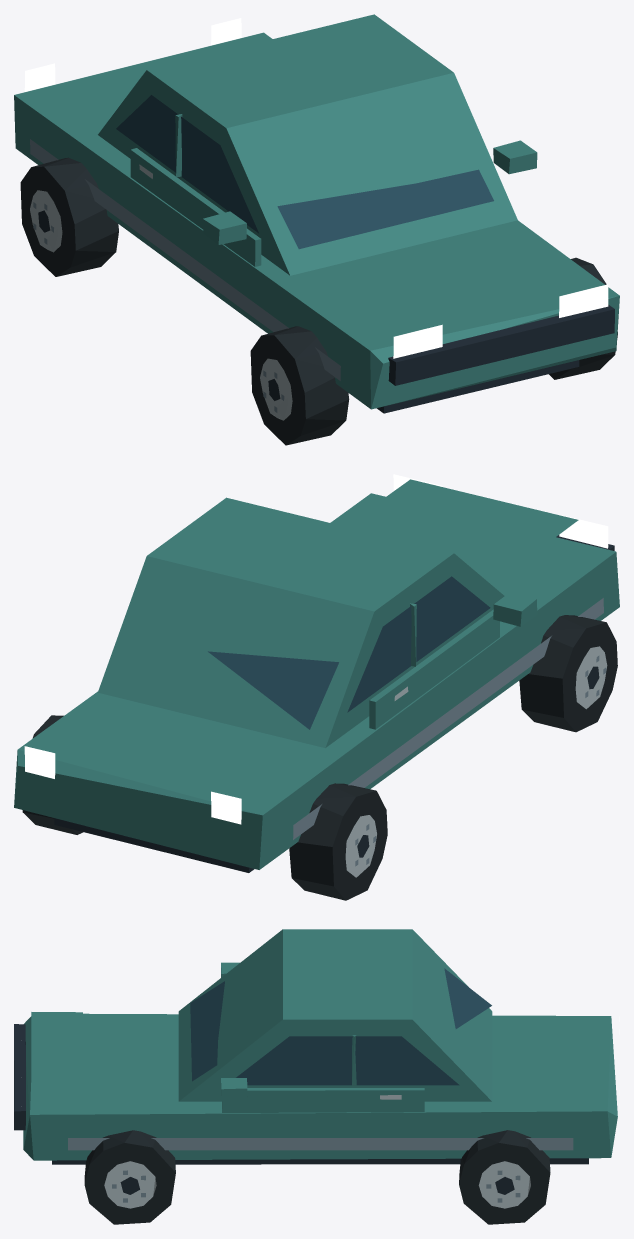
The model's file is road-sedan.lod2.glb.
3 renders of one model, top to bottom at view 1: azimuth 30°, elevation 25°; view 2: azimuth 150°, elevation 25°; view 3: azimuth 270°, elevation 25°, orthographic. The views are drawn at different scales.
Parts seen in each view (by area): view 1: road-sedan__body, road-sedan__door_-1, road-sedan__wheel_steer_1_l, road-sedan__wheel_steer_0_l, road-sedan__wheel_steer_0_r; view 2: road-sedan__body, road-sedan__door_-1, road-sedan__wheel_steer_1_l, road-sedan__wheel_steer_0_l, road-sedan__wheel_steer_1_r; view 3: road-sedan__body, road-sedan__door_1, road-sedan__wheel_steer_0_r, road-sedan__wheel_steer_1_r.
Boxes of the visible parts, x1,y1,x2,y2 form: road-sedan__body: (14,14,619,413); road-sedan__door_-1: (116,95,261,266); road-sedan__wheel_steer_1_l: (20,157,118,276); road-sedan__wheel_steer_0_l: (250,326,349,445); road-sedan__wheel_steer_0_r: (549,257,617,379); road-sedan__body: (14,474,619,872); road-sedan__door_-1: (347,576,499,729); road-sedan__wheel_steer_1_l: (289,783,387,900); road-sedan__wheel_steer_0_l: (519,615,617,732); road-sedan__wheel_steer_1_r: (22,715,83,834); road-sedan__body: (14,929,619,1164); road-sedan__door_1: (222,1035,459,1112); road-sedan__wheel_steer_0_r: (84,1130,175,1224); road-sedan__wheel_steer_1_r: (459,1130,550,1224).
Bounding box in the file's own units: 2.24 × 1.55 × 4.49.
